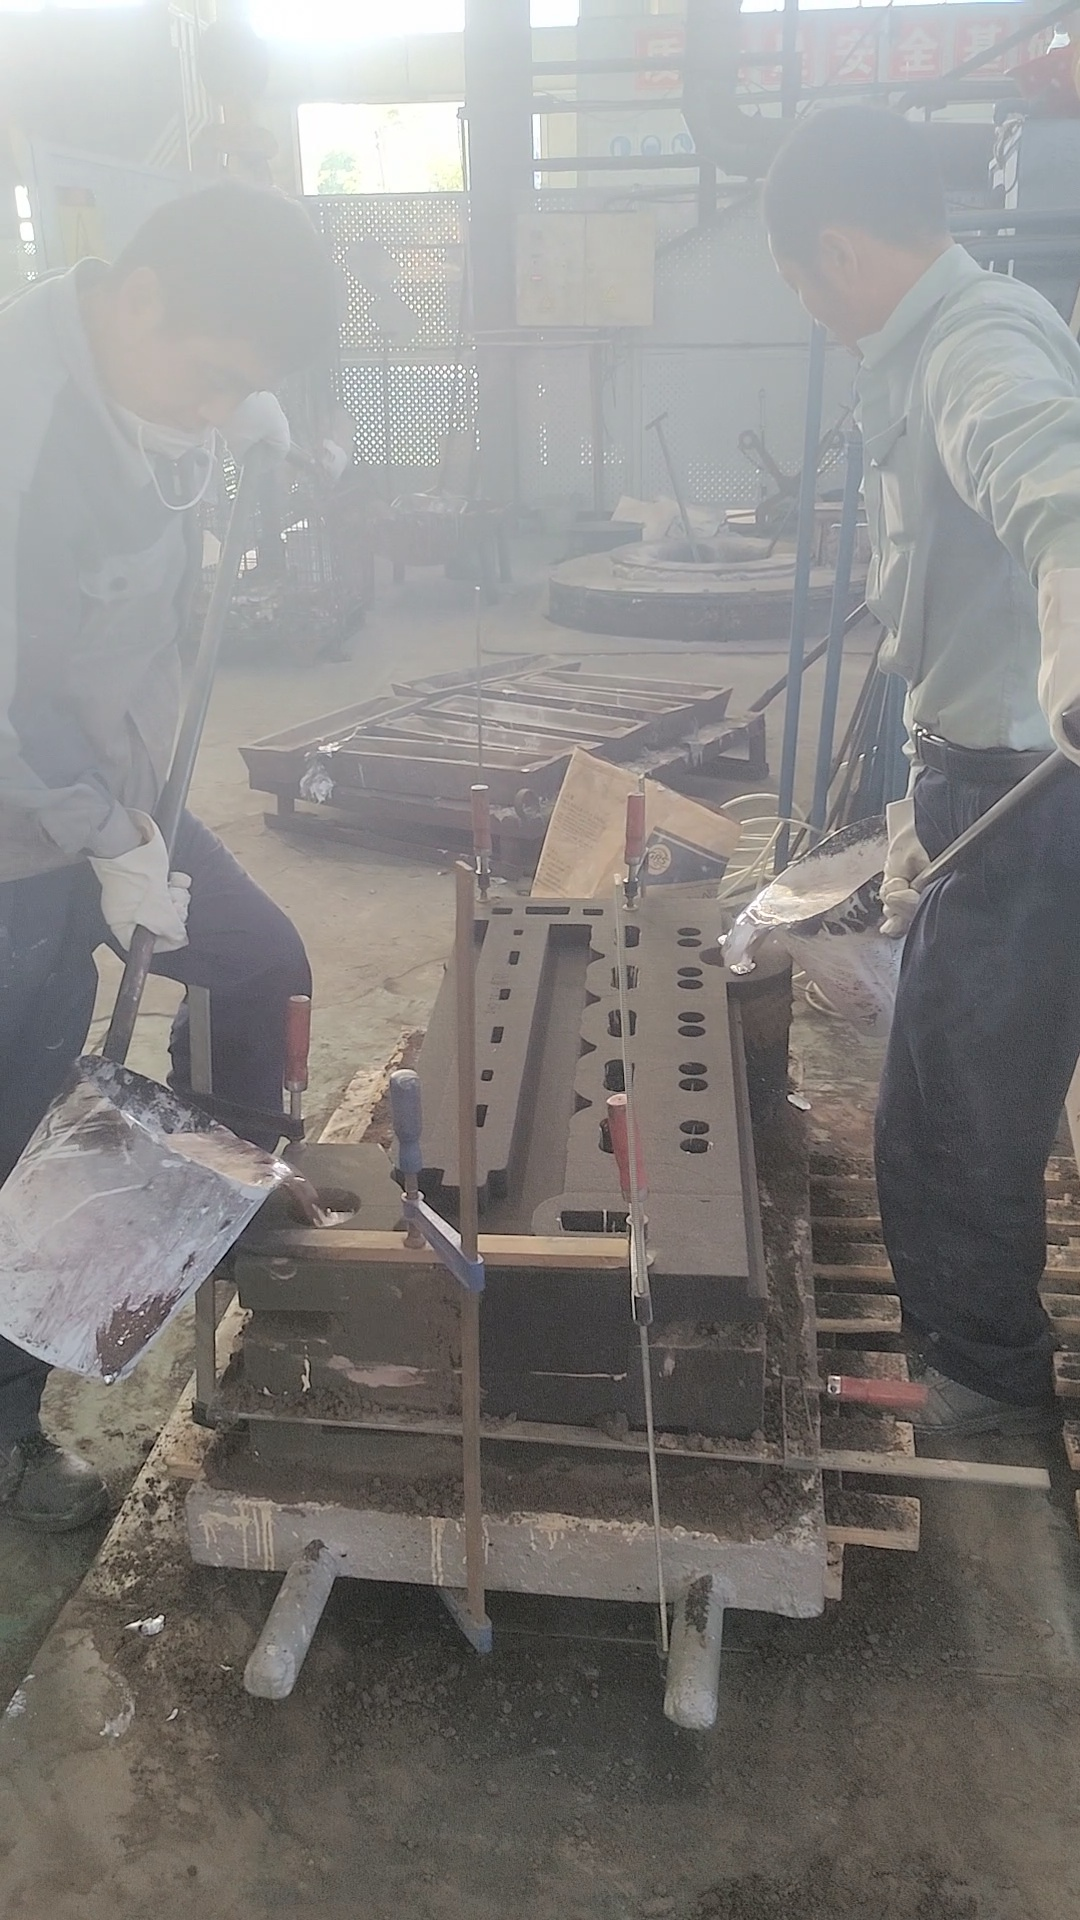pouring hole: (284, 1188, 361, 1226), (698, 945, 756, 967)
